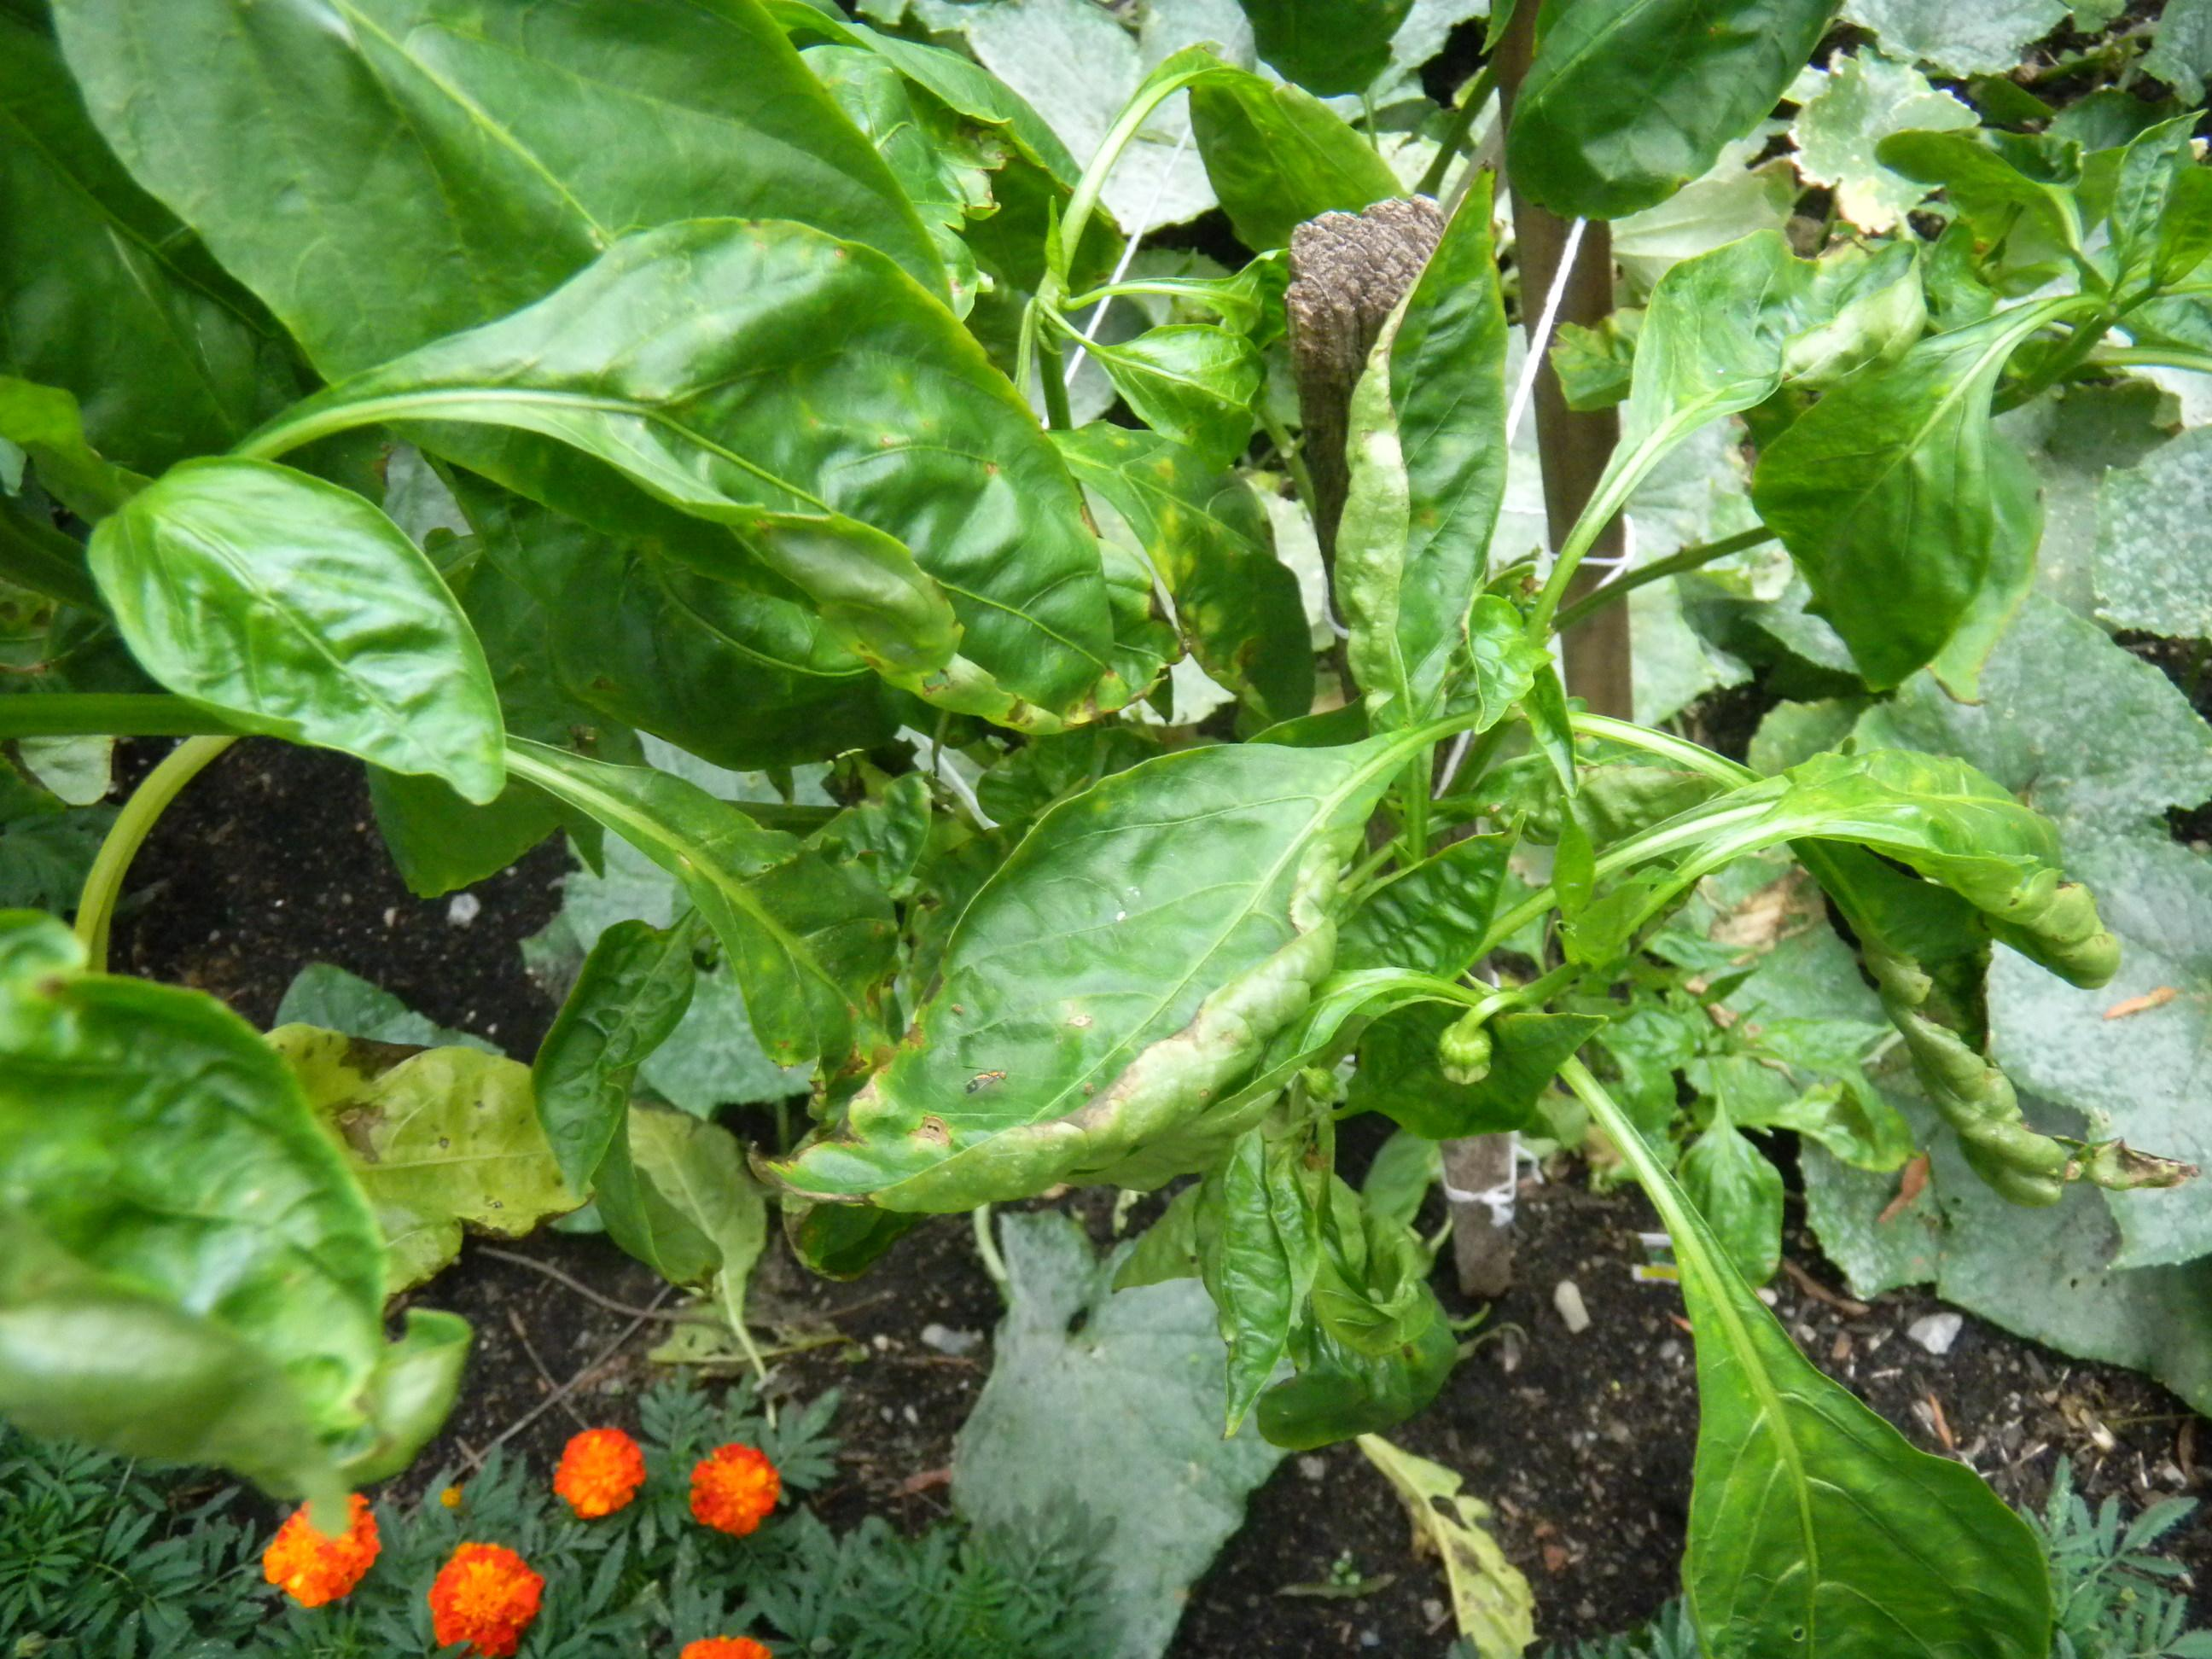Bell_pepper leaf spot: (380, 230, 1179, 762), (1658, 1269, 2054, 1659)
